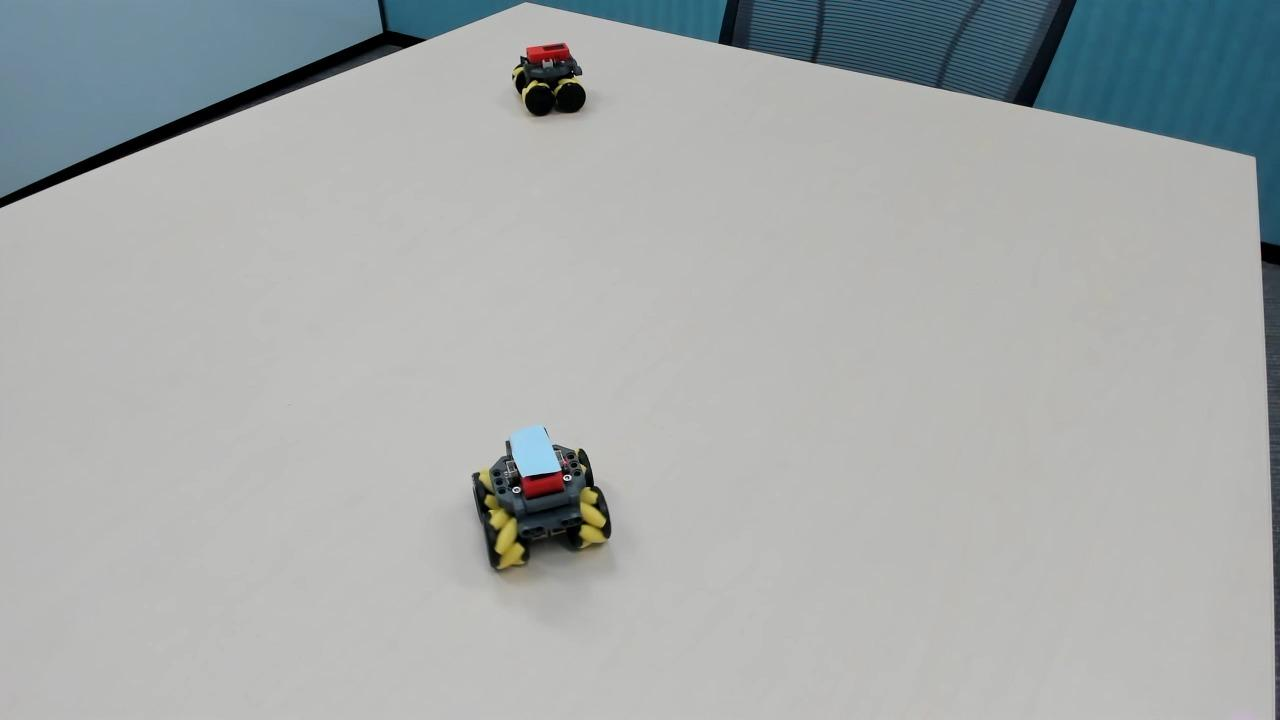B-Robot: (461, 412, 630, 588)
R-Robot: (505, 30, 596, 127)
